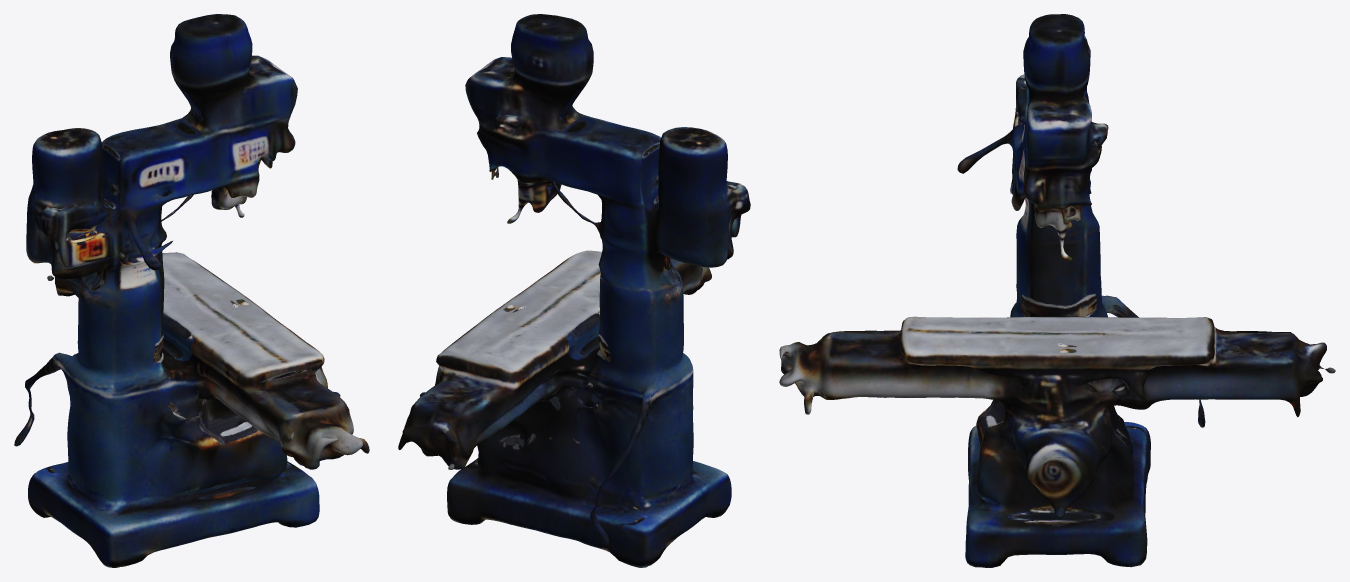
Rendered from c0303d754f32_milling_machine_min.fbx.
3 views of the same model, side by side, from view 1: azimuth 30°, elevation 25°; view 2: azimuth 150°, elevation 25°; view 3: azimuth 270°, elevation 25° (orthographic). The views are drawn at different scales.
Parts seen in each view (by area): view 1: mesh; view 2: mesh; view 3: mesh.
Part boxes in pixels (x1,y1,x2,y2): mesh: (14, 14, 369, 567); mesh: (398, 14, 750, 567); mesh: (779, 14, 1335, 567).
Bounding box in the file's own units: 67.62 × 99.9 × 99.05.
